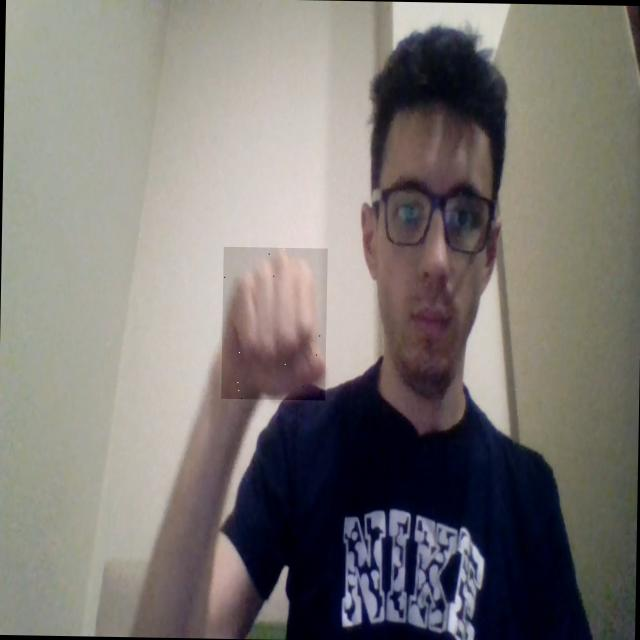yes: (221, 246, 328, 400)
